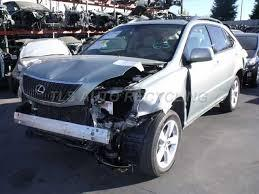bonnet-dent: (25, 52, 165, 96)
fender-dent: (144, 78, 185, 120)
front-bumper-dent: (27, 97, 99, 139)
